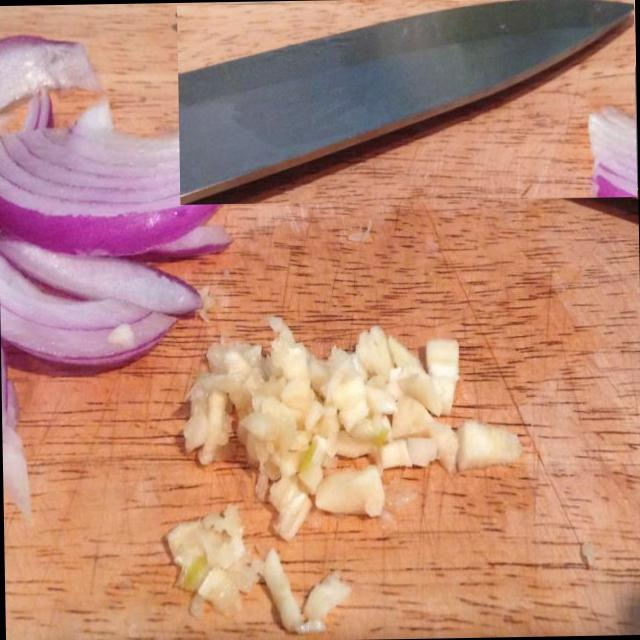Knife: (178, 0, 634, 204)
